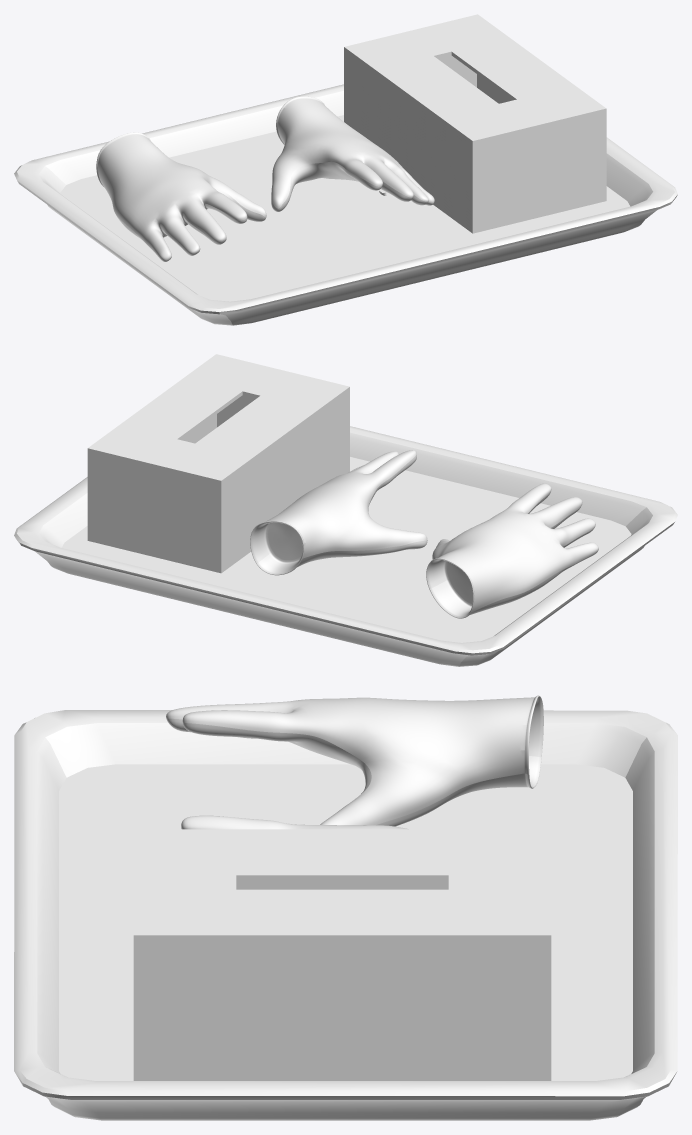
File: surgical-gloves.glb
The picture shows the model from 3 angles, top to bottom: view 1: azimuth 30°, elevation 25°; view 2: azimuth 150°, elevation 25°; view 3: azimuth 270°, elevation 25°; orthographic projection. The views are drawn at different scales.
Parts seen in each view (by area): view 1: Tray, GlovesPack, Glove_Mid; view 2: Tray, GlovesPack, Glove_Mid; view 3: Tray, GlovesPack, Glove_Mid.
Part boxes in pixels (<box>): Tray: <box>14,84,677,325</box>; GlovesPack: <box>344,14,606,233</box>; Glove_Mid: <box>96,96,434,261</box>; Tray: <box>14,426,677,666</box>; GlovesPack: <box>87,354,349,573</box>; Glove_Mid: <box>250,450,598,618</box>; Tray: <box>14,710,677,1120</box>; GlovesPack: <box>133,829,551,1080</box>; Glove_Mid: <box>166,695,543,829</box>.
Bounding box in the file's own units: 38.51 × 7.8 × 28.03.
Materials: 3 (1 with a texture image).
